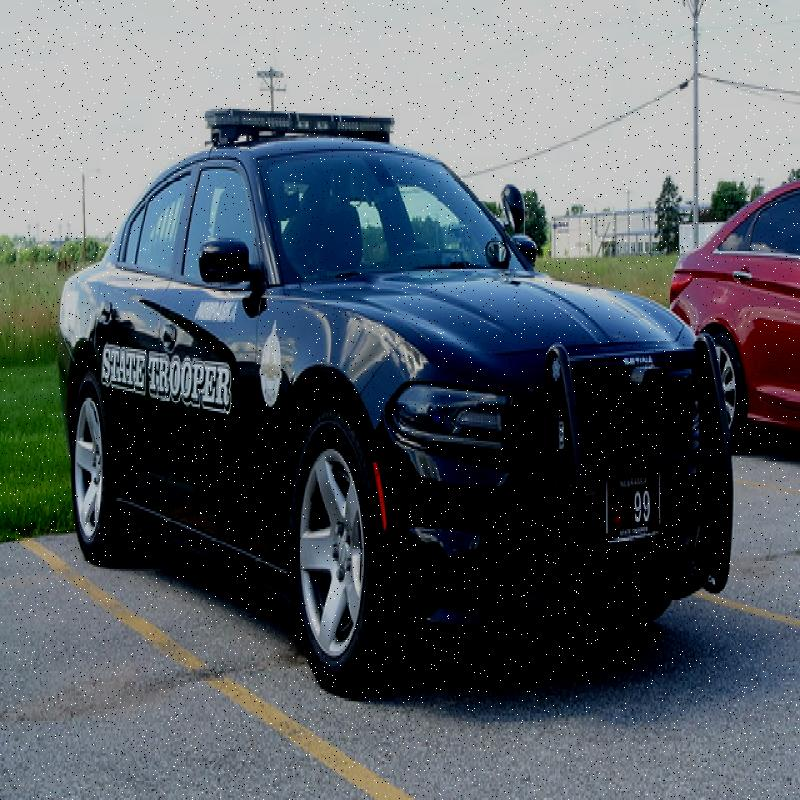AmbulanceSiren: (201, 92, 398, 163)
car: (56, 141, 744, 720)
